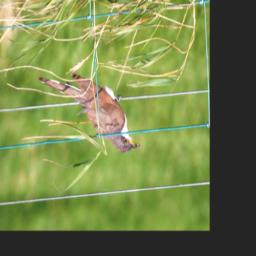Cuckoo: (36, 64, 141, 157)
